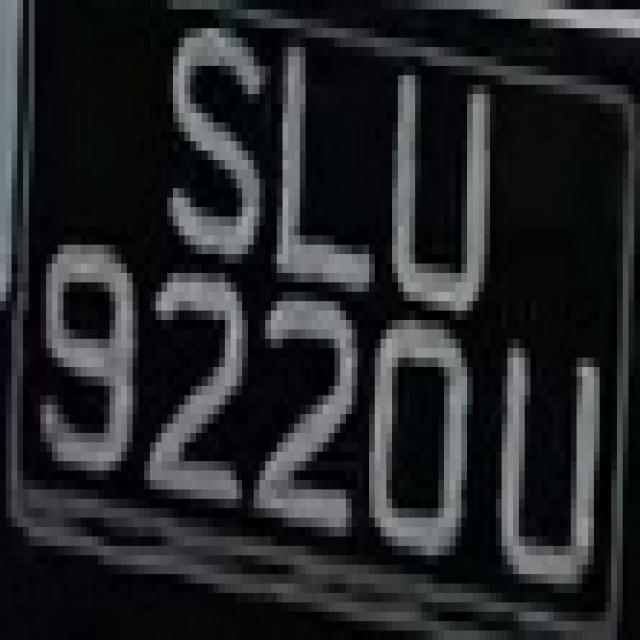0: (363, 264, 473, 574)
2: (259, 226, 369, 574), (150, 226, 265, 527)
9: (29, 188, 144, 518)
L: (259, 47, 386, 320)
S: (162, 19, 266, 282)
U: (386, 37, 502, 310), (502, 302, 600, 602)
